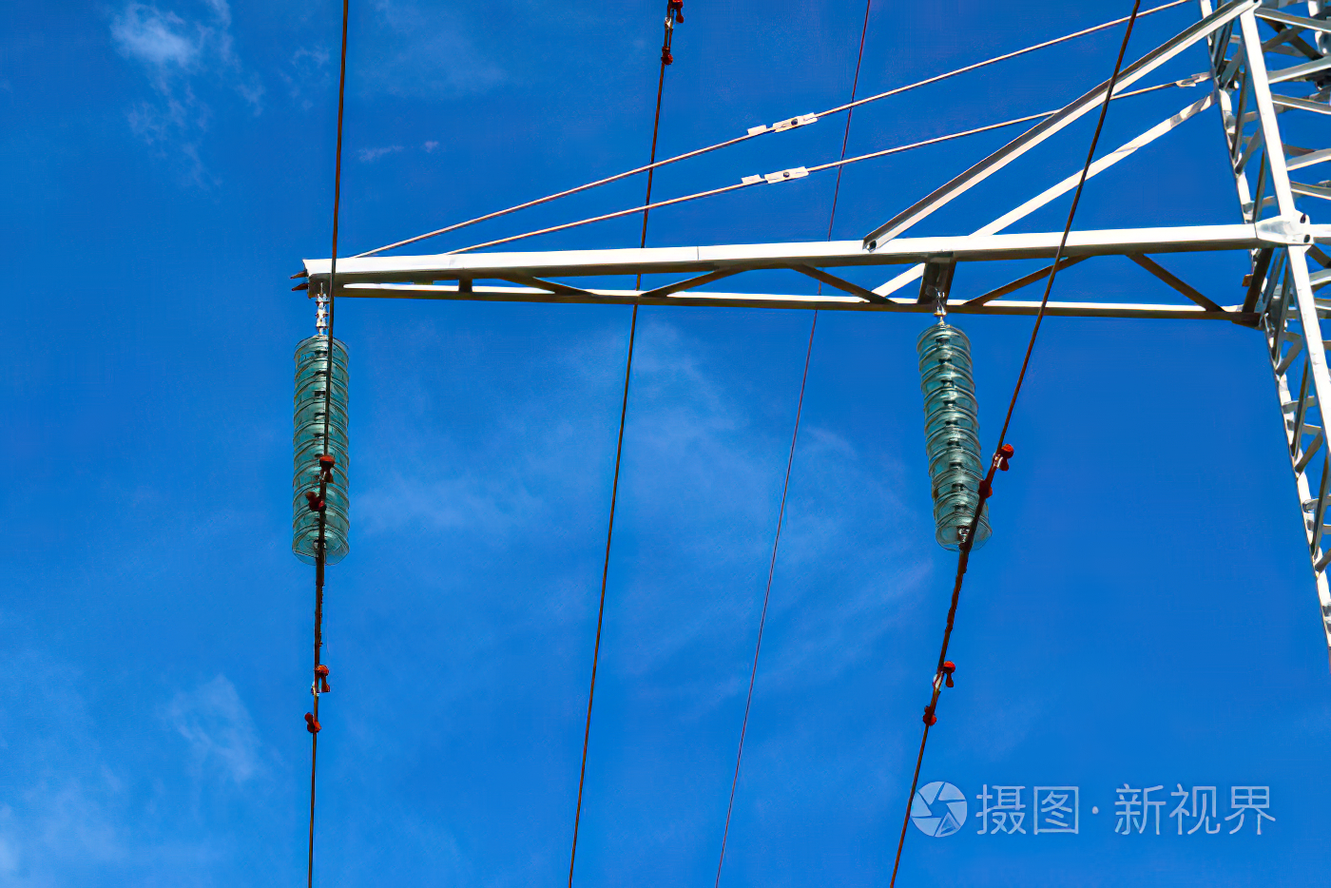insulator: (918, 322, 993, 551), (288, 336, 353, 569)
